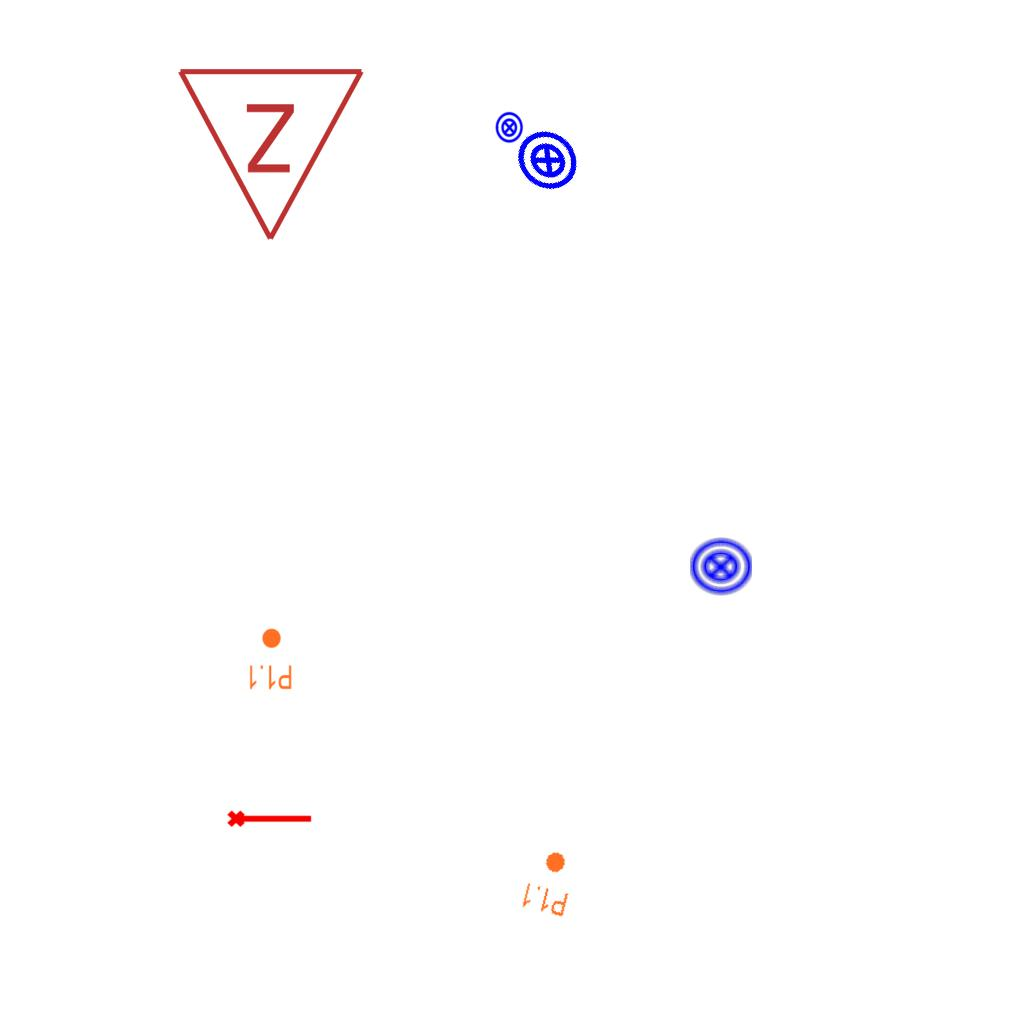ASR_Ansaugoeffnung: (226, 806, 314, 829)
Downlight_LED_Einbauleuchten_Flur: (518, 845, 580, 919), (247, 627, 293, 691)
Taster_beleuchtet: (501, 113, 595, 207), (688, 534, 754, 600), (493, 111, 526, 144)
Zimmersignalleuchte: (175, 54, 371, 254)
